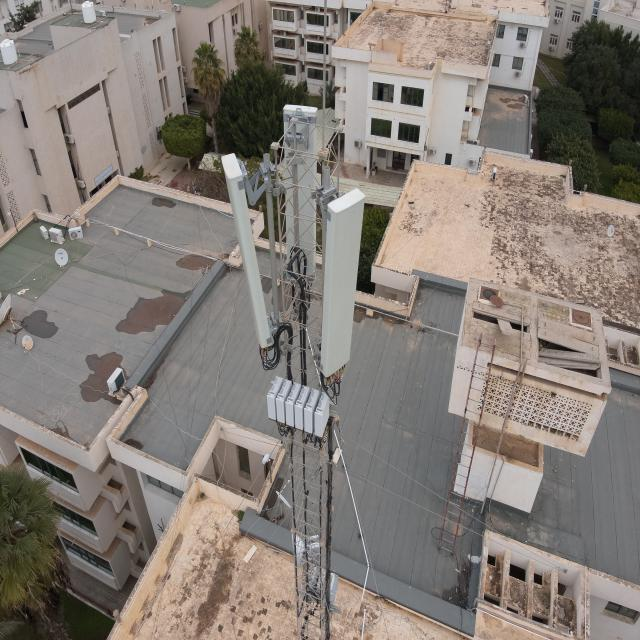antenna: (218, 146, 278, 358), (318, 185, 366, 384), (276, 100, 322, 282)
lighnig-rad: (320, 0, 329, 150)
microware-dish: (286, 529, 324, 575)
power-box: (303, 564, 340, 613)
radio-unit: (264, 374, 334, 440)
